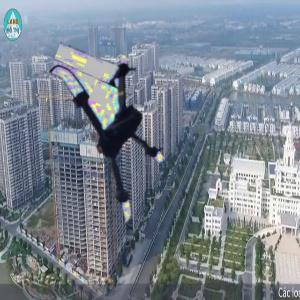drone: (31, 56, 195, 220)
